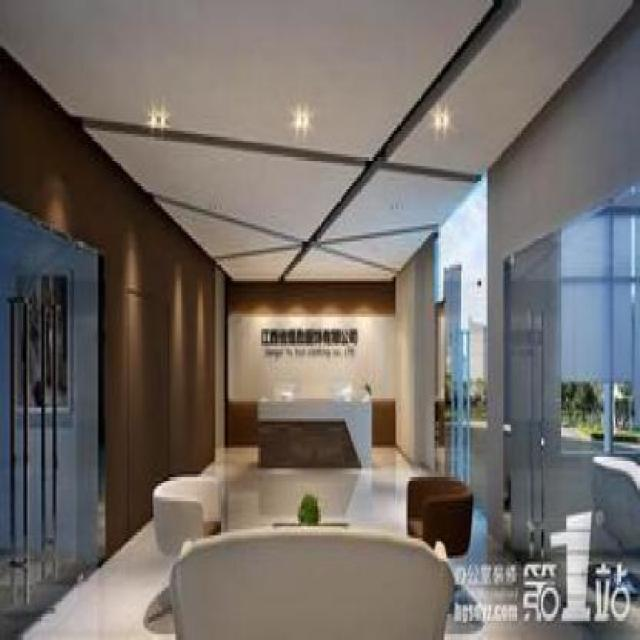frontdesk: (243, 374, 379, 471)
